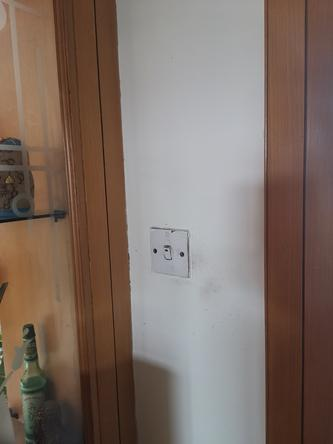switch: (162, 244, 178, 267)
